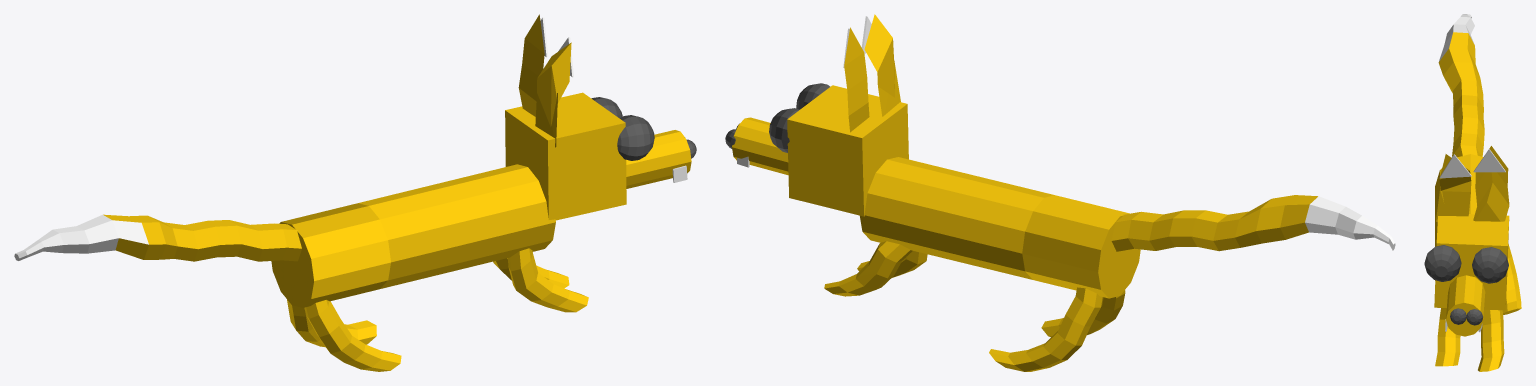
Rendered from fox.fbx.
3 renders of one model, left to right at view 1: azimuth 30°, elevation 25°; view 2: azimuth 150°, elevation 25°; view 3: azimuth 270°, elevation 25°, orthographic. The views are drawn at different scales.
Visible parts, largest first — view 1: mesh452152710, mesh774798448, mesh1506003642, mesh1498993450, mesh1040486015, mesh898064678, mesh1642396742, mesh1656915489, mesh1288572335, mesh1349211754, mesh2009026820; view 2: mesh452152710, mesh774798448, mesh1506003642, mesh1349211754, mesh2009026820, mesh898064678, mesh1642396742, mesh1656915489, mesh1498993450, mesh1474384435; view 3: mesh1506003642, mesh774798448, mesh1656915489, mesh898064678, mesh1642396742, mesh2009026820, mesh1288572335, mesh1474384435, mesh1040486015, mesh452152710, mesh1349211754, mesh1974353843 (+3 smaller).
Part boxes in pixels (x1=…): mesh452152710: x1=271, y1=164, x2=555, y2=307; mesh774798448: x1=505, y1=92, x2=626, y2=220; mesh1506003642: x1=14, y1=214, x2=301, y2=261; mesh1498993450: x1=304, y1=300, x2=401, y2=371; mesh1040486015: x1=508, y1=248, x2=588, y2=312; mesh898064678: x1=626, y1=130, x2=691, y2=188; mesh1642396742: x1=535, y1=42, x2=571, y2=147; mesh1656915489: x1=518, y1=14, x2=544, y2=116; mesh1288572335: x1=617, y1=115, x2=654, y2=160; mesh1349211754: x1=287, y1=299, x2=376, y2=347; mesh2009026820: x1=493, y1=258, x2=569, y2=288; mesh452152710: x1=860, y1=157, x2=1140, y2=298; mesh774798448: x1=787, y1=85, x2=908, y2=216; mesh1506003642: x1=1111, y1=195, x2=1395, y2=251; mesh1349211754: x1=989, y1=287, x2=1102, y2=371; mesh2009026820: x1=824, y1=241, x2=912, y2=296; mesh898064678: x1=732, y1=117, x2=788, y2=175; mesh1642396742: x1=864, y1=14, x2=900, y2=116; mesh1656915489: x1=844, y1=27, x2=869, y2=132; mesh1498993450: x1=1041, y1=290, x2=1125, y2=336; mesh1474384435: x1=769, y1=108, x2=799, y2=152; mesh1506003642: x1=1438, y1=14, x2=1484, y2=157; mesh774798448: x1=1434, y1=214, x2=1509, y2=310; mesh1656915489: x1=1473, y1=146, x2=1509, y2=221; mesh898064678: x1=1446, y1=275, x2=1485, y2=336; mesh1642396742: x1=1436, y1=154, x2=1471, y2=221; mesh2009026820: x1=1478, y1=309, x2=1504, y2=371; mesh1288572335: x1=1424, y1=245, x2=1461, y2=281; mesh1474384435: x1=1472, y1=247, x2=1508, y2=283; mesh1040486015: x1=1435, y1=308, x2=1460, y2=366; mesh452152710: x1=1435, y1=154, x2=1484, y2=309; mesh1349211754: x1=1502, y1=244, x2=1521, y2=314; mesh1974353843: x1=1473, y1=149, x2=1505, y2=172.
Size of the model in its own units: 184 by 77 by 28.63.
